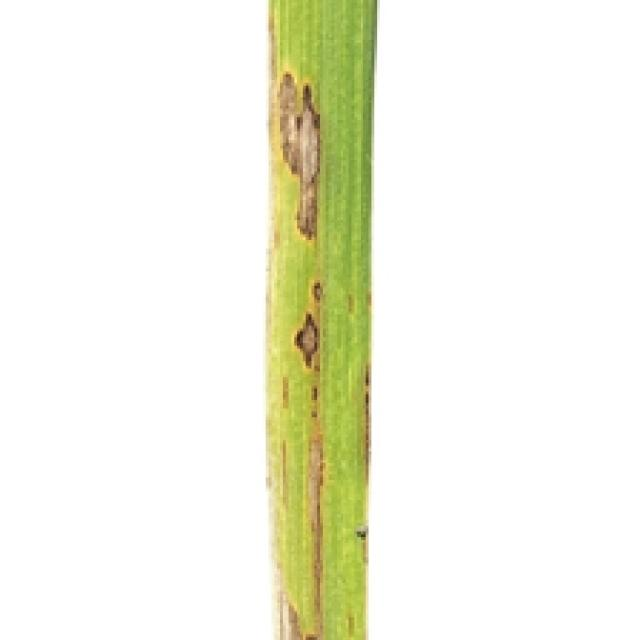Rice___Rice_Blast: (264, 0, 374, 637)
